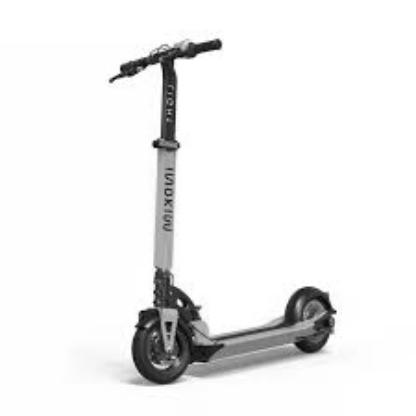bike: (131, 266, 337, 386)
